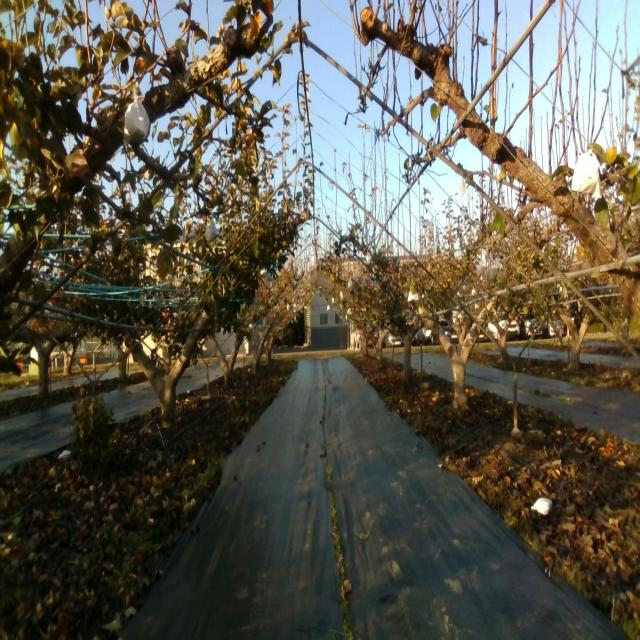pearbags: (571, 148, 602, 199), (124, 99, 152, 148), (205, 212, 216, 245)
